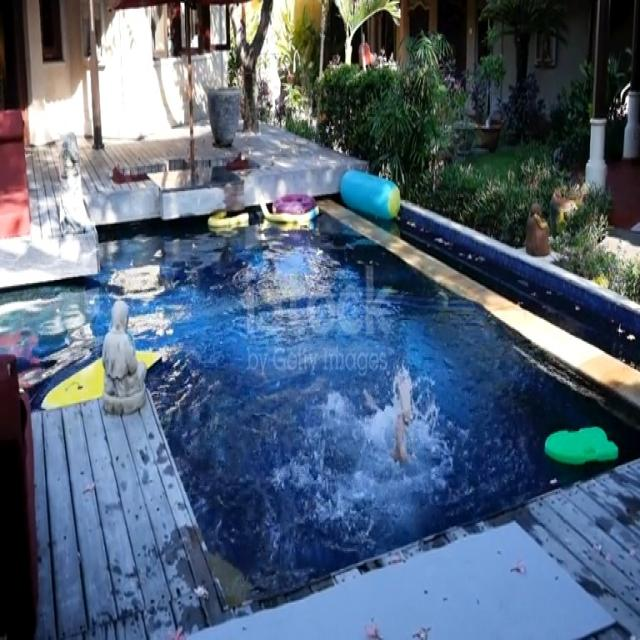Drowning: (359, 371, 428, 471)
